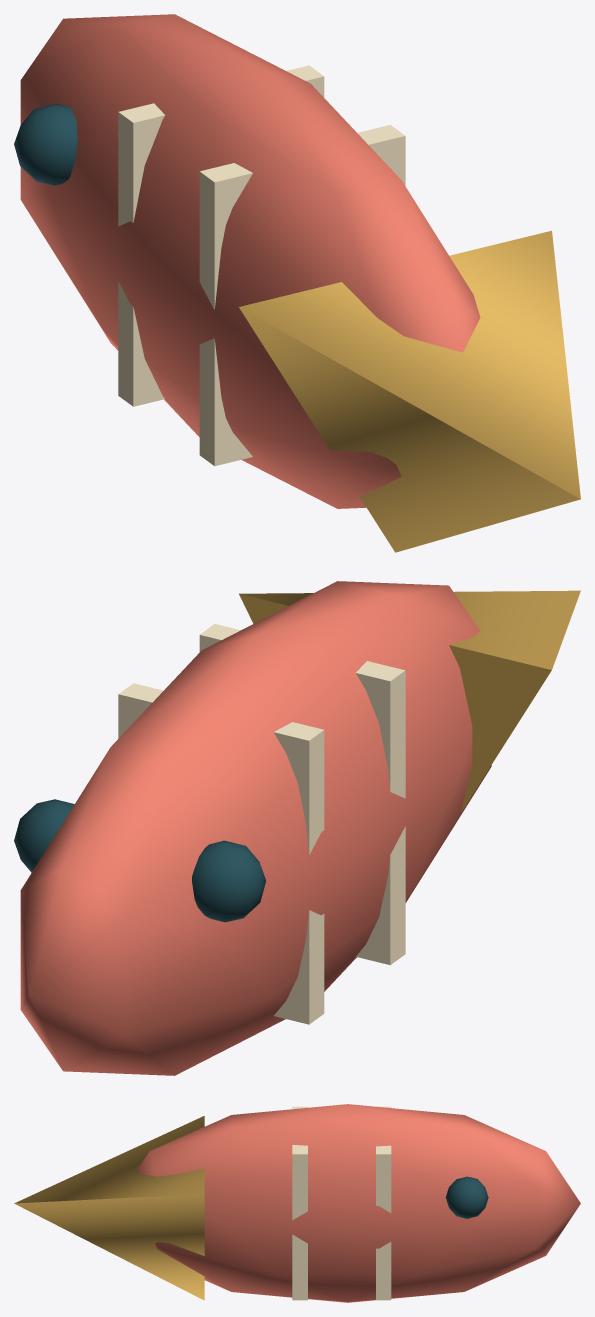
The model's file is discovery-foxfish.glb.
3 renders of one model, top to bottom at view 1: azimuth 30°, elevation 25°; view 2: azimuth 150°, elevation 25°; view 3: azimuth 270°, elevation 25°, orthographic. The views are drawn at different scales.
Parts seen in each view (by area): view 1: fox-fish-body, fish-tail, fish-stripe (×2), fish-eye; view 2: fox-fish-body, fish-stripe (×2), fish-tail, fish-eye (×2); view 3: fox-fish-body, fish-tail, fish-stripe (×2), fish-eye.
Boxes of the visible parts, x1,y1,x2,y2 form: fox-fish-body: [20, 14, 480, 508]; fish-tail: [239, 230, 580, 552]; fish-stripe (×2): [118, 65, 405, 466]; fish-eye: [14, 103, 77, 185]; fox-fish-body: [20, 581, 491, 1075]; fish-stripe (×2): [118, 624, 405, 1024]; fish-tail: [239, 590, 580, 812]; fish-eye (×2): [14, 799, 265, 922]; fox-fish-body: [135, 1104, 580, 1302]; fish-tail: [14, 1116, 204, 1300]; fish-stripe (×2): [292, 1106, 391, 1300]; fish-eye: [445, 1176, 488, 1218].
Bounding box in the file's own units: 1.56 × 1.84 × 4.75.
